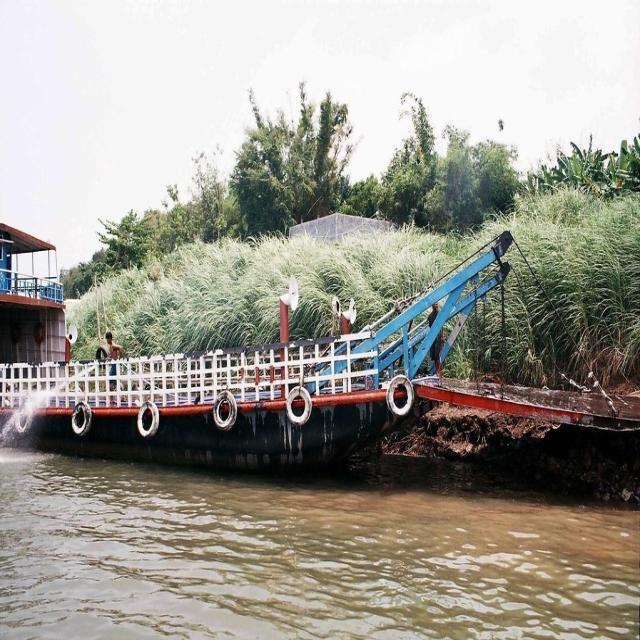boat: (0, 206, 407, 508)
